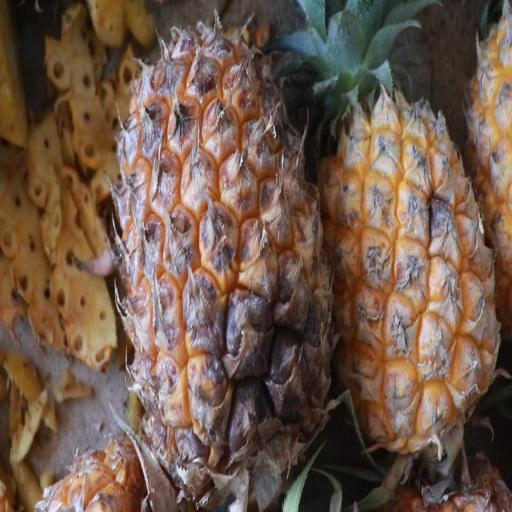Pineapple - v8 v1: (112, 14, 340, 500), (314, 13, 501, 453)
